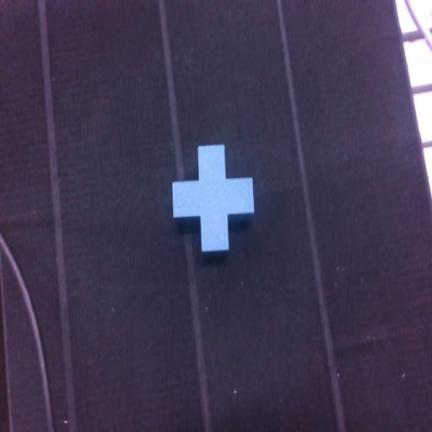cross: (173, 145, 253, 251)
